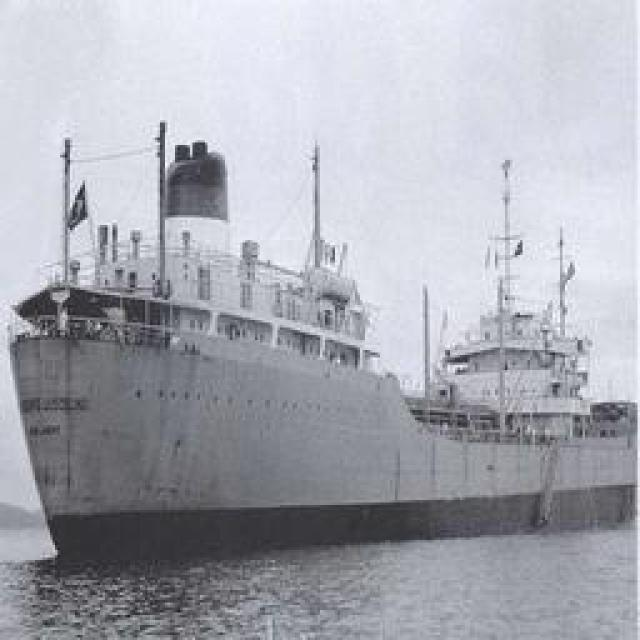Ship: (8, 112, 640, 572)
